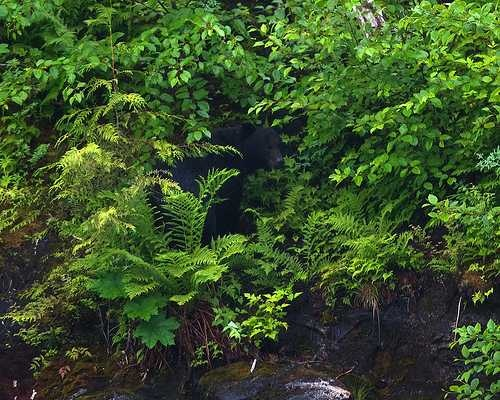bear: (179, 103, 307, 231)
